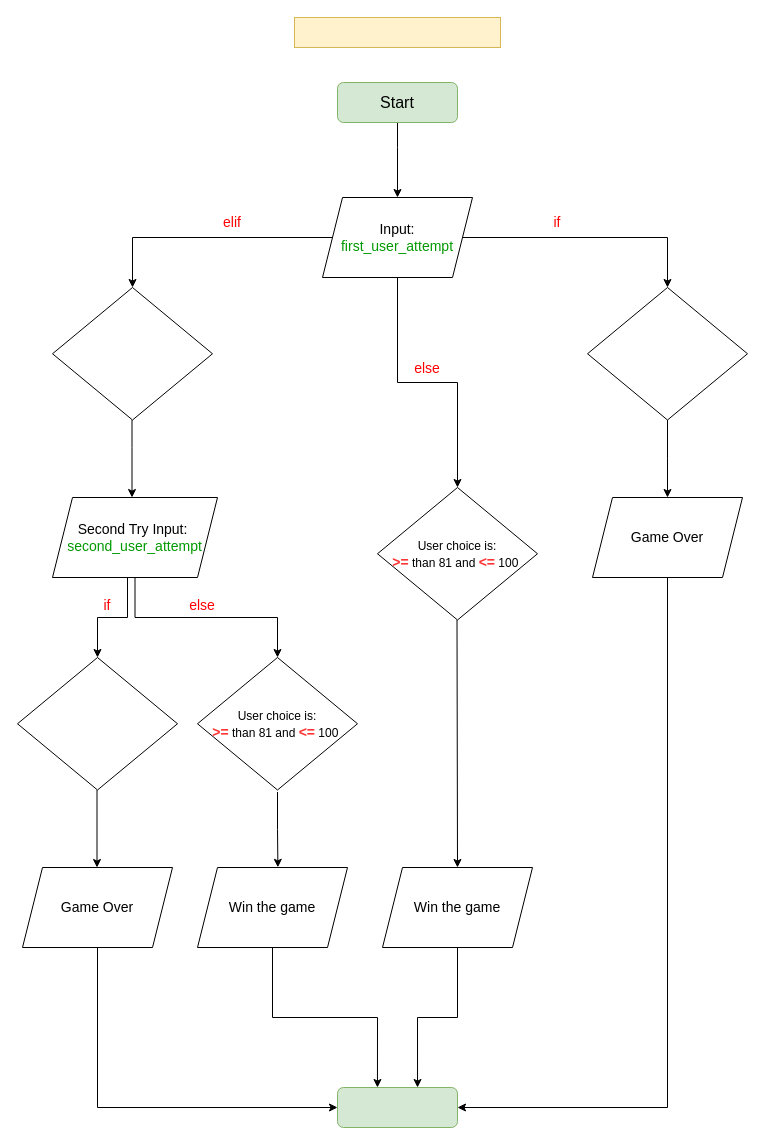
The diagram is 765 pixels wide and 1145 high, and some of its shapes have lost their labels. Here are the shapes that lost their labels. From the top down, the centre of each, then its label:
pixel 397 32: Treasure Island Book Game
pixel 132 353: User choice is: >= than 1 and < 50
pixel 667 353: User choice is: >= than 50 and <= 80
pixel 97 723: User choice is: >= than 1 and <= 80
pixel 397 1107: End
